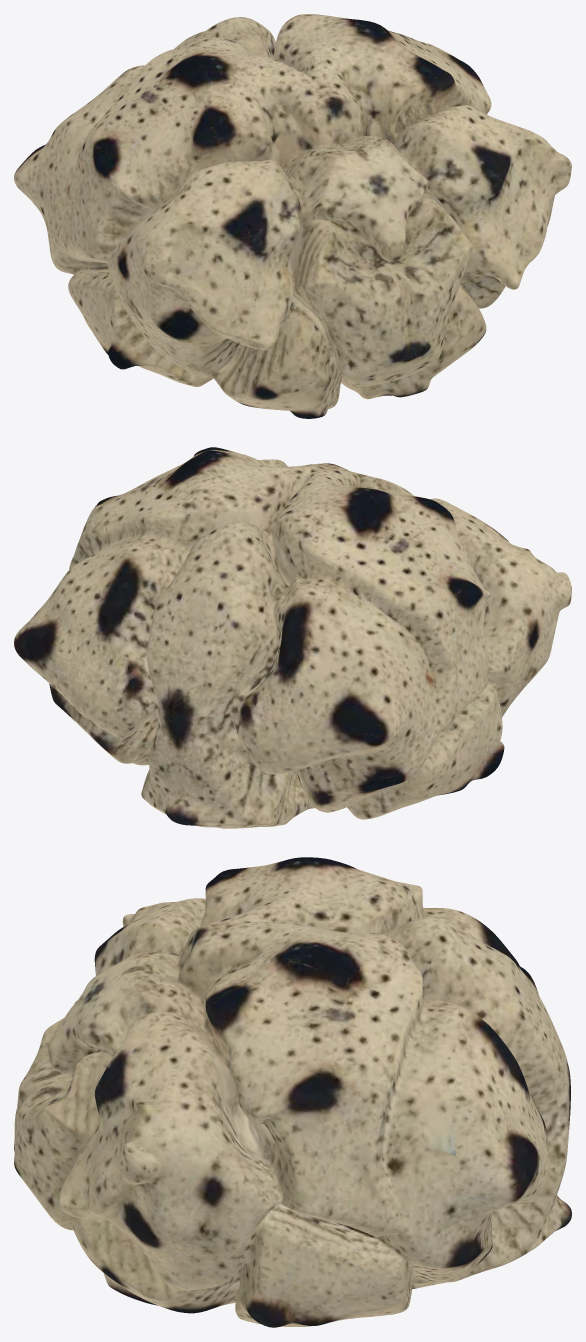
The model's file is huba-mobile.glb.
3 renders of one model, top to bottom at view 1: azimuth 30°, elevation 25°; view 2: azimuth 150°, elevation 25°; view 3: azimuth 270°, elevation 25°, orthographic. The views are drawn at different scales.
Bounding box in the file's own units: 1.9 × 1.36 × 1.83.
1 material, 1 textured.
